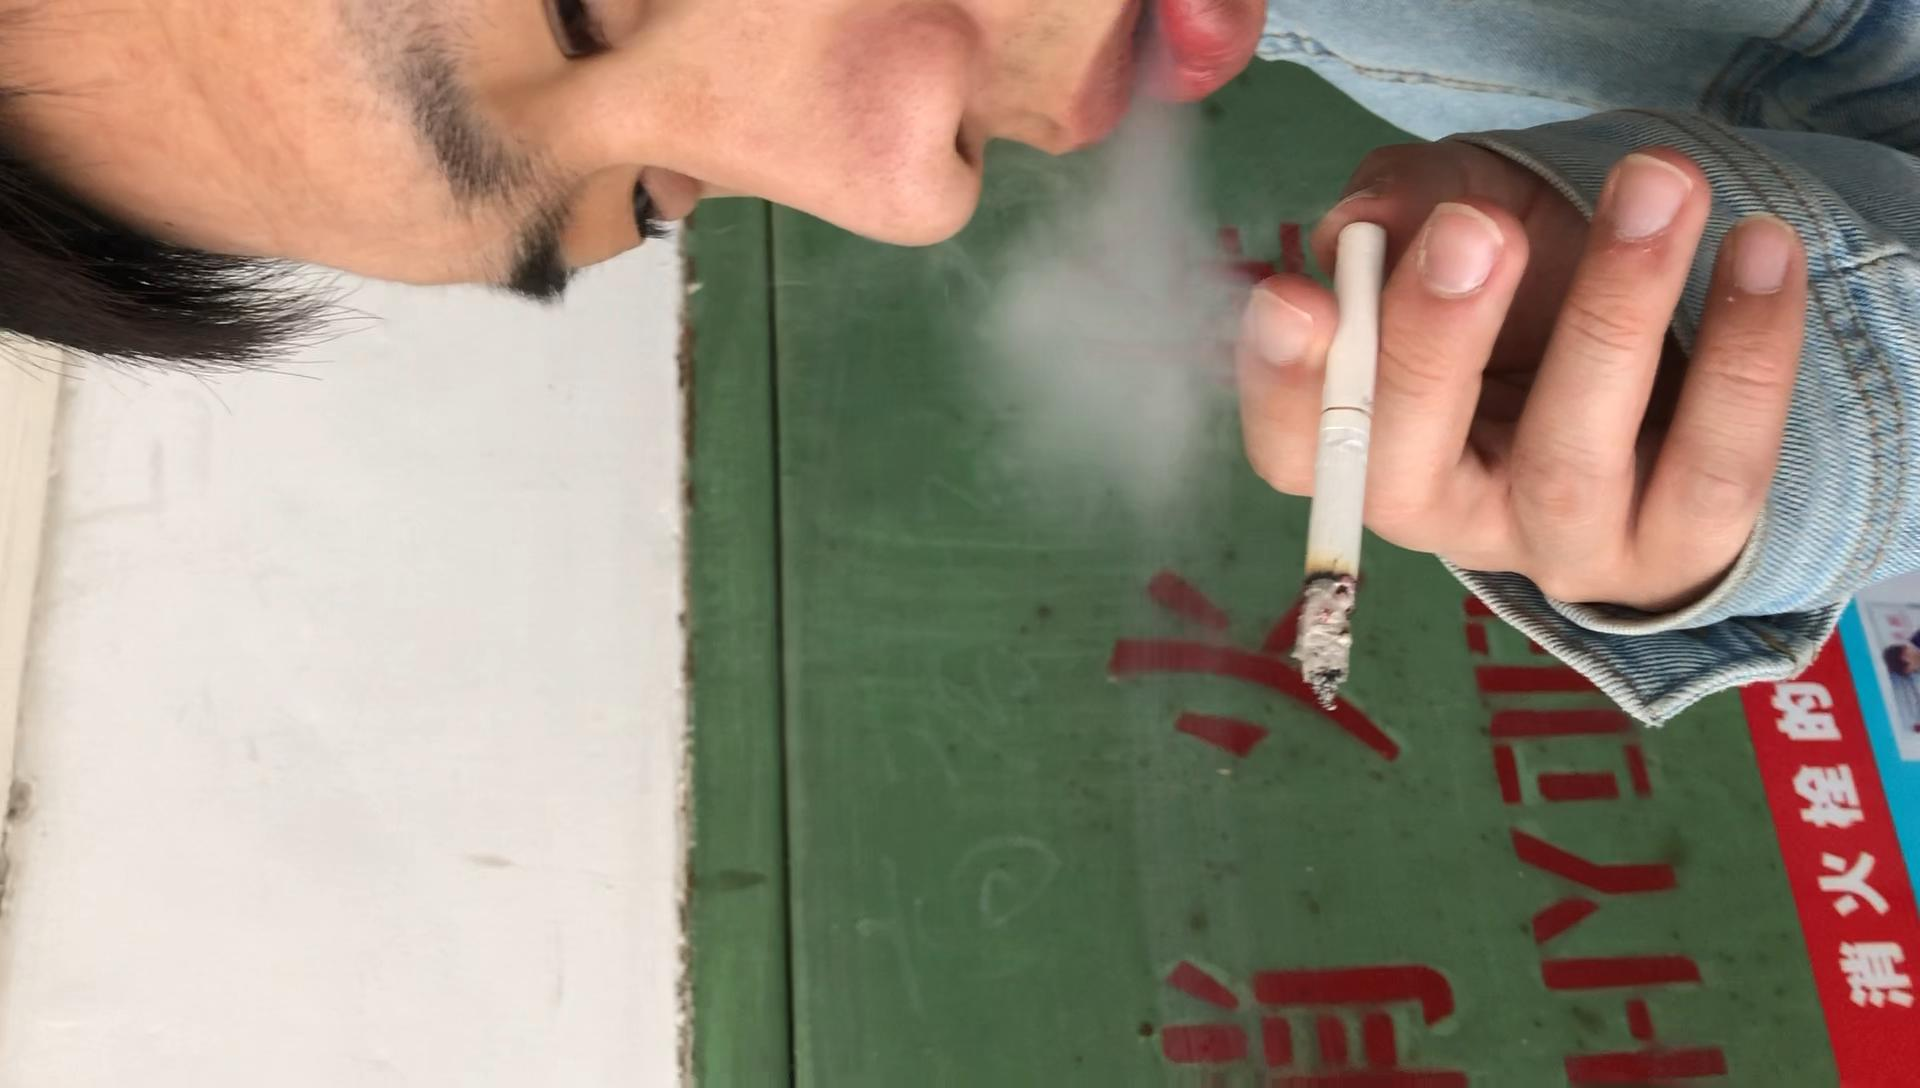yanwu: (957, 96, 1258, 508)
